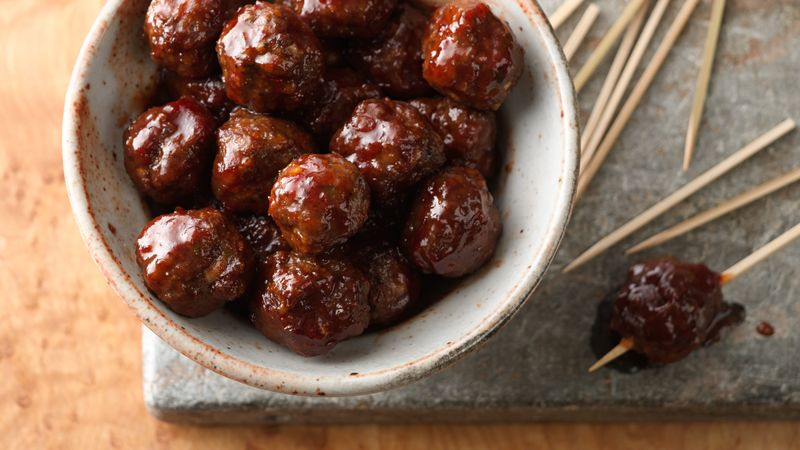meatballs: (213, 17, 330, 114), (602, 264, 722, 349), (336, 99, 433, 204), (405, 169, 493, 277), (267, 250, 361, 351), (423, 7, 518, 101), (132, 214, 238, 296), (273, 154, 361, 248), (132, 110, 218, 203), (217, 118, 294, 221), (432, 96, 508, 177), (301, 3, 408, 47), (146, 3, 212, 71)
